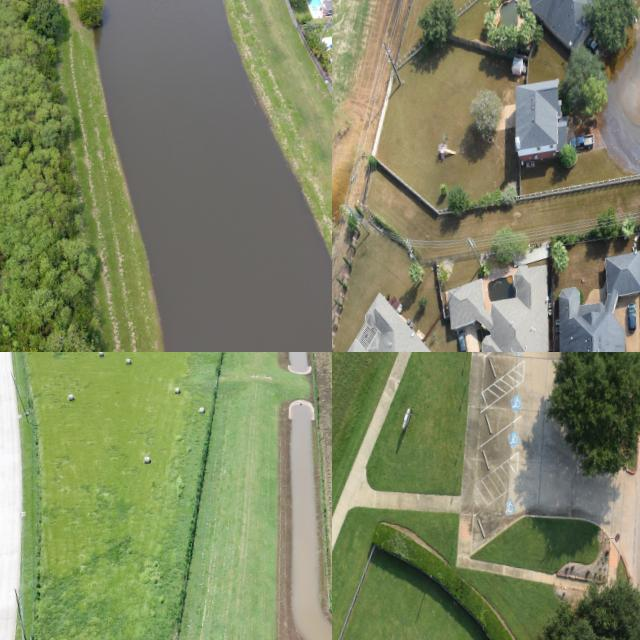fire: (97, 0, 332, 352), (288, 398, 332, 640), (600, 30, 640, 171), (288, 352, 308, 371)
